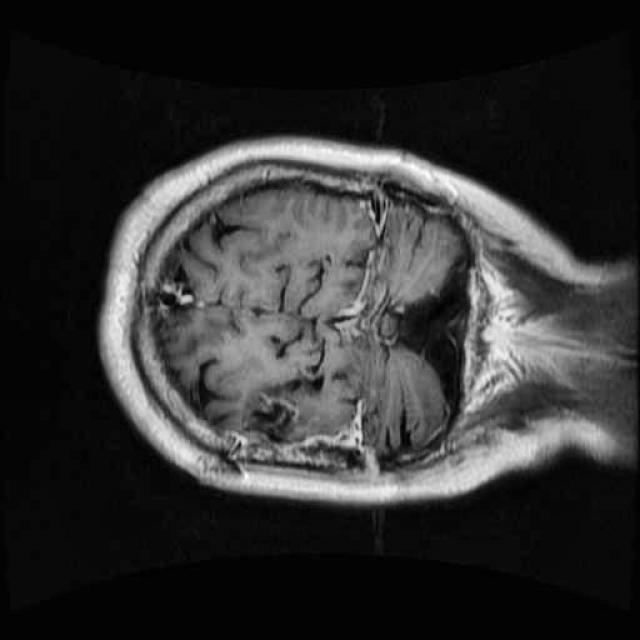Non-Tumor: (206, 362, 326, 481)
